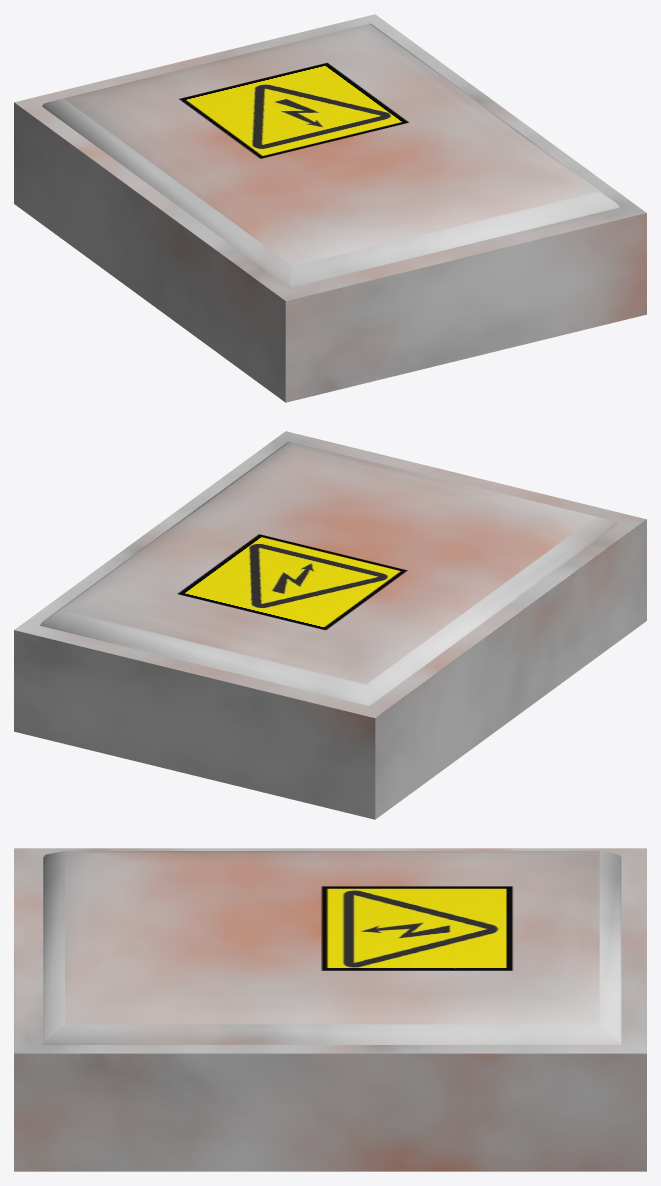
The model's file is PowerGridBox.fbx.
3 views of the same model, one above another, from view 1: azimuth 30°, elevation 25°; view 2: azimuth 150°, elevation 25°; view 3: azimuth 270°, elevation 25° (orthographic). The views are drawn at different scales.
Visible parts, largest first — view 1: BoxDoor, MainBox; view 2: BoxDoor, MainBox; view 3: BoxDoor, MainBox.
Boxes of the visible parts, x1=… form: BoxDoor: x1=42, y1=23, x2=619, y2=287; MainBox: x1=14, y1=14, x2=646, y2=402; BoxDoor: x1=40, y1=441, x2=617, y2=705; MainBox: x1=14, y1=431, x2=646, y2=819; BoxDoor: x1=43, y1=851, x2=621, y2=1044; MainBox: x1=14, y1=848, x2=646, y2=1171.
Size of the model in its own units: 95.9 by 30.7 by 125.
